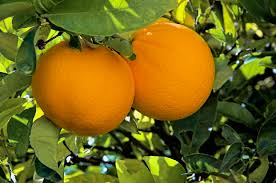orange: (30, 38, 137, 138), (129, 19, 218, 123)
